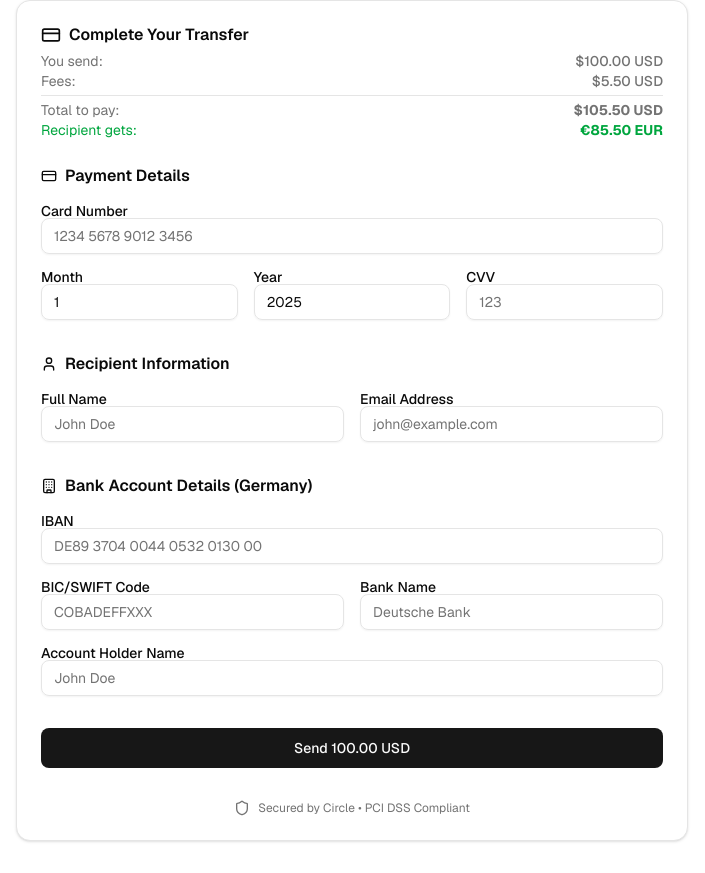
Test case: PaymentForm › validates IBAN length correctly
In the field labelled "IBAN": (352, 546) [41,528,663,564], type "DE123"
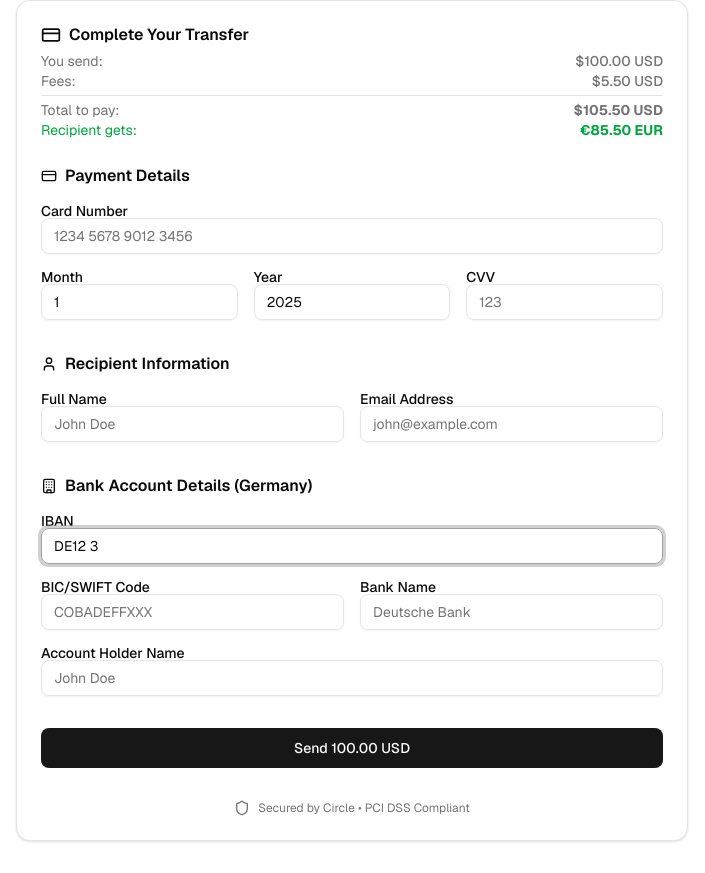
Click the button "Send 100.00 USD": (352, 748) [41,728,663,768]
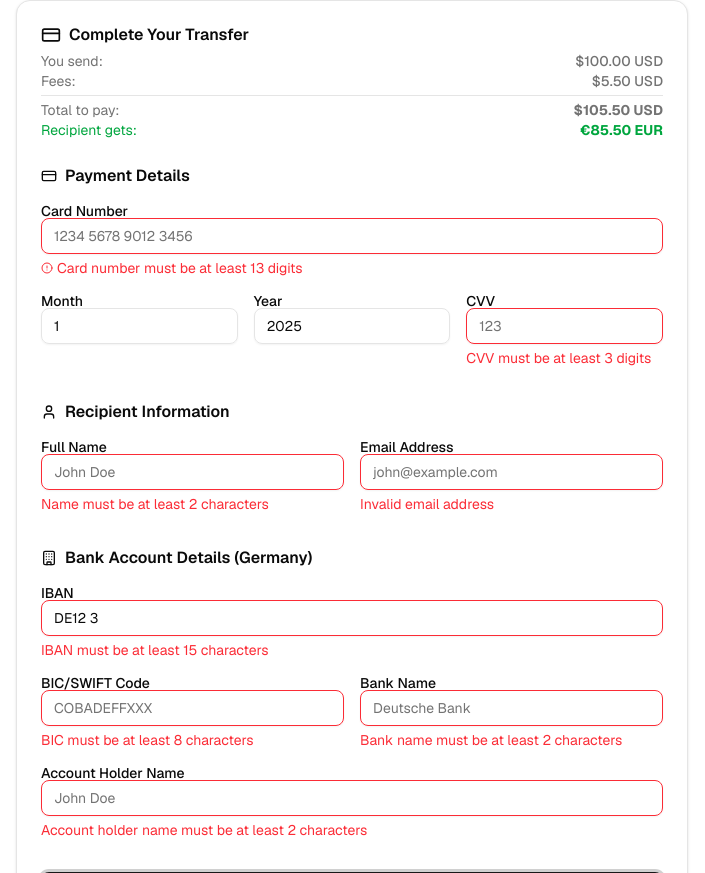
Expected: the text "IBAN must be at least 15 characters" is shown, [41,641,269,659]
